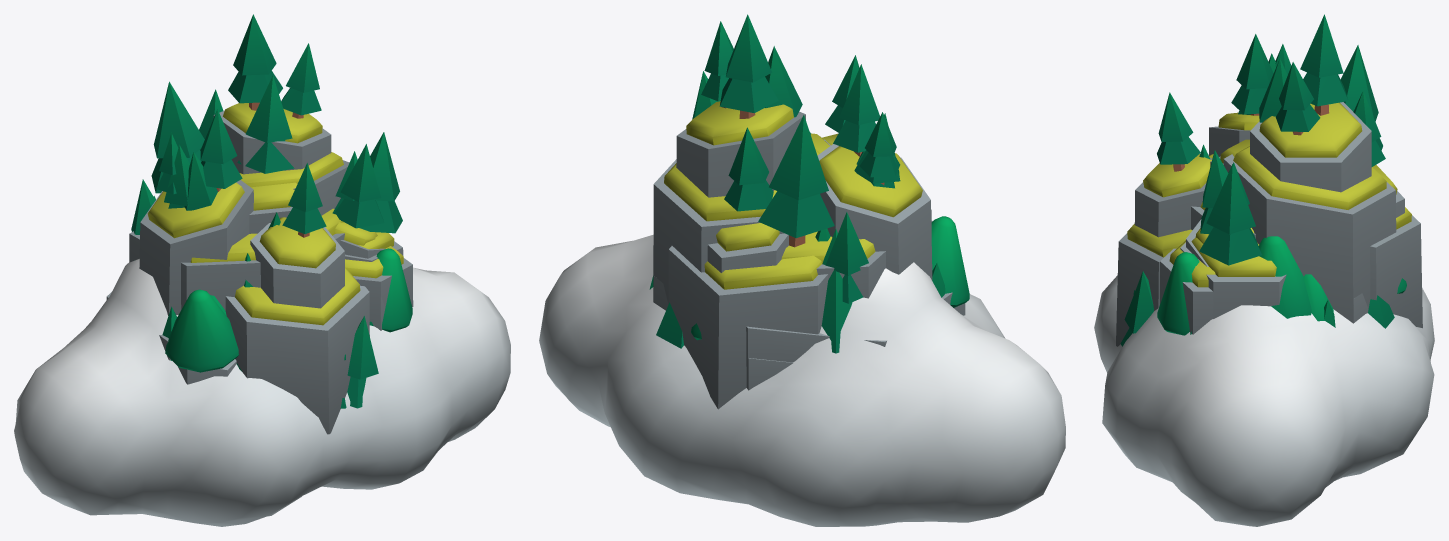
The model's file is hex_nature.glb.
3 renders of one model, left to right at view 1: azimuth 30°, elevation 25°; view 2: azimuth 150°, elevation 25°; view 3: azimuth 270°, elevation 25°, orthographic. The views are drawn at different scales.
Parts seen in each view (by area): view 1: cloud_big, mountain_C_grass_trees, mountain_A_grass_trees, mountain_C, mountain_B_grass_trees, mountain_C_grass, trees_B_large, mountain_B_grass, mountain_A_grass, trees_A_large, mountain_A, mountain_B; view 2: cloud_big, mountain_C_grass_trees, mountain_B_grass_trees, mountain_C, mountain_A_grass_trees, mountain_C_grass, mountain_B_grass, trees_B_large, mountain_B, mountain_A_grass, hills_C_trees, trees_A_large (+1 smaller); view 3: cloud_big, mountain_B_grass_trees, mountain_C_grass_trees, mountain_B_grass, mountain_A_grass_trees, mountain_C, mountain_B, mountain_C_grass, trees_B_large, trees_B_medium, trees_A_large, mountain_A_grass (+1 smaller).
Part boxes in pixels (<box>): cloud_big: <box>14,259,510,526</box>; mountain_C_grass_trees: <box>140,89,385,408</box>; mountain_A_grass_trees: <box>151,75,412,329</box>; mountain_C: <box>139,190,385,434</box>; mountain_B_grass_trees: <box>106,14,403,359</box>; mountain_C_grass: <box>149,183,385,384</box>; trees_B_large: <box>165,248,412,372</box>; mountain_B_grass: <box>223,103,394,260</box>; mountain_A_grass: <box>129,182,412,309</box>; trees_A_large: <box>162,306,378,408</box>; mountain_A: <box>129,213,413,310</box>; mountain_B: <box>107,110,402,360</box>; cloud_big: <box>539,234,1065,526</box>; mountain_C_grass_trees: <box>680,55,932,409</box>; mountain_B_grass_trees: <box>653,14,954,362</box>; mountain_C: <box>668,192,965,408</box>; mountain_A_grass_trees: <box>654,46,900,390</box>; mountain_C_grass: <box>704,133,918,333</box>; mountain_B_grass: <box>653,104,829,389</box>; trees_B_large: <box>931,216,969,307</box>; mountain_B: <box>653,111,952,388</box>; mountain_A_grass: <box>748,133,931,389</box>; hills_C_trees: <box>821,229,852,353</box>; trees_A_large: <box>649,263,945,348</box>; cloud_big: <box>1094,275,1434,526</box>; mountain_B_grass_trees: <box>1180,14,1396,323</box>; mountain_C_grass_trees: <box>1117,34,1420,314</box>; mountain_B_grass: <box>1180,103,1391,294</box>; mountain_A_grass_trees: <box>1160,45,1382,322</box>; mountain_C: <box>1116,130,1422,346</box>; mountain_B: <box>1209,102,1371,293</box>; mountain_C_grass: <box>1131,112,1411,307</box>; trees_B_large: <box>1133,252,1333,335</box>; trees_B_medium: <box>1259,236,1406,318</box>; trees_A_large: <box>1120,271,1394,346</box>; mountain_A_grass: <box>1183,141,1353,334</box>.
Bounding box in the file's own units: 3.61 × 3.41 × 2.24.
Materials: 1 (1 with a texture image).
